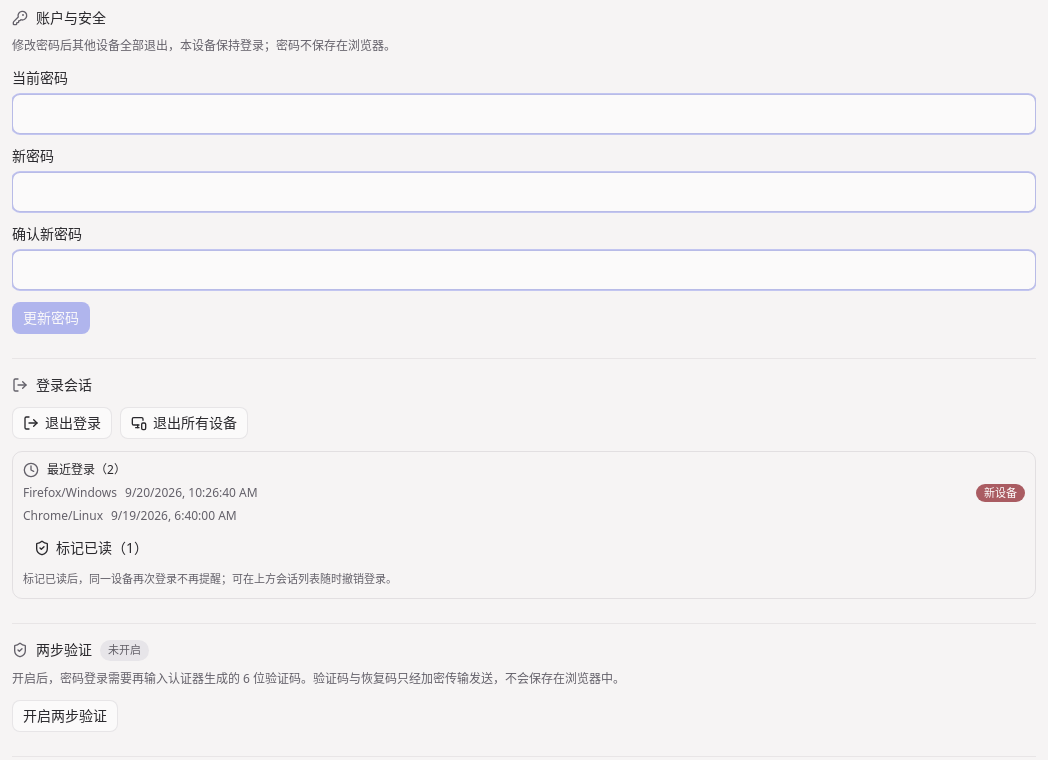
it: N008 最近登录（新设备提醒） › 列出事件并渲染新设备徽标；标记已读走批量端点后徽标消失
Check: the text "最近登录（2）" is shown, box [47,462,126,478]
Check: the text "Chrome/Linux" is shown, box [23,507,103,524]
What coordinates should you click on to do the following:
click the button "标记已读（1）"
I would click on:
 (91, 548)
Its box is [23,532,159,564].
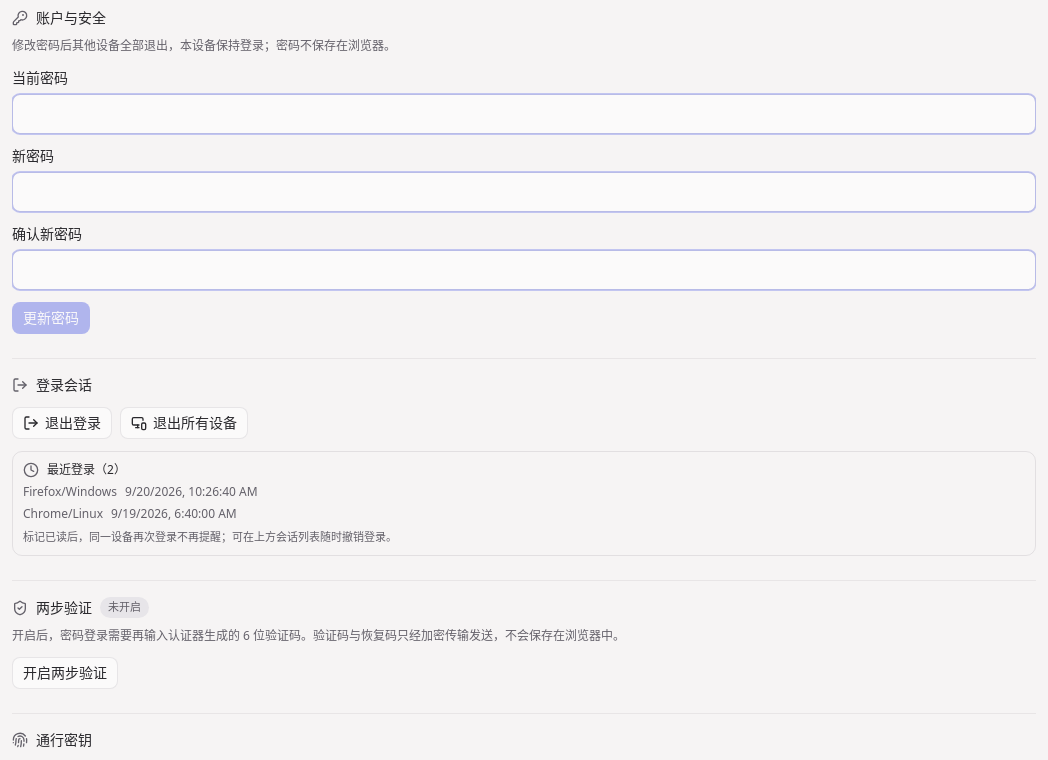
Check: the text "新设备" is gone
